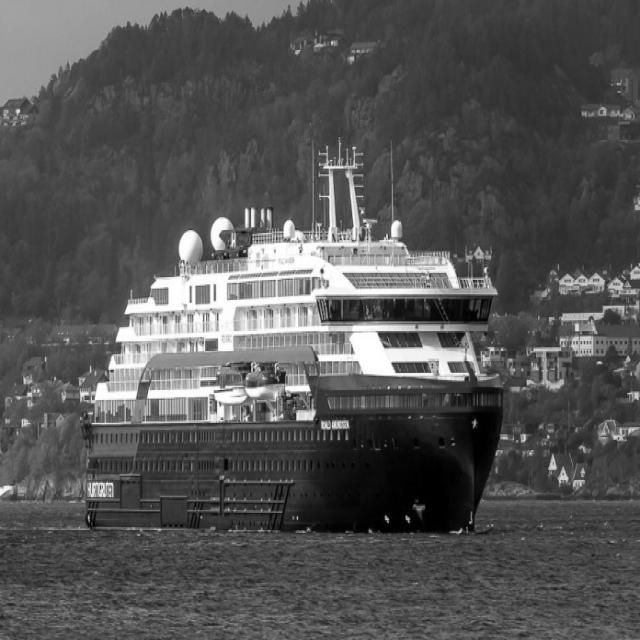cruises: (75, 129, 512, 544)
